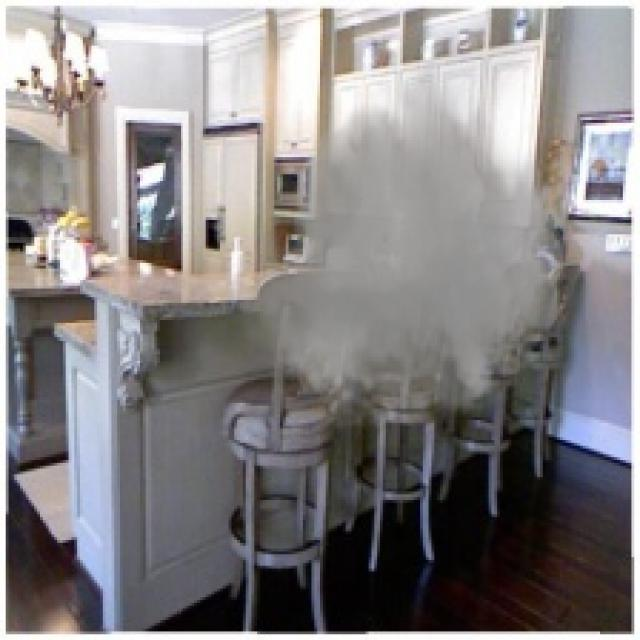smoke: (228, 57, 572, 446)
